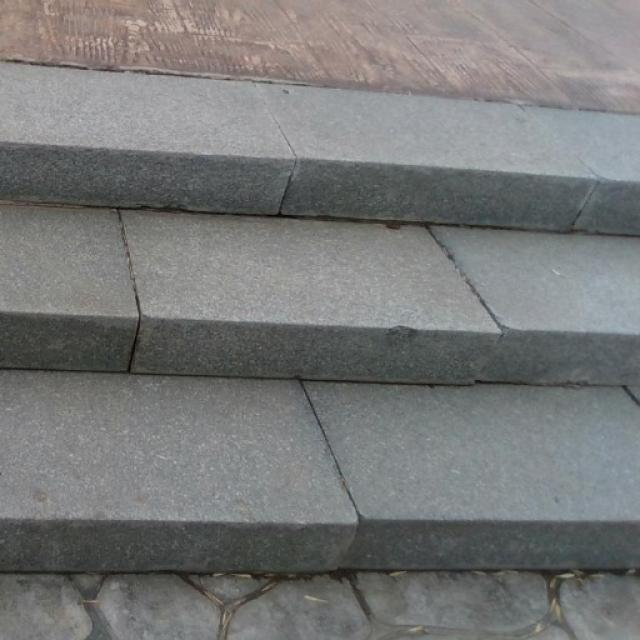Stairs: (0, 54, 639, 638)
